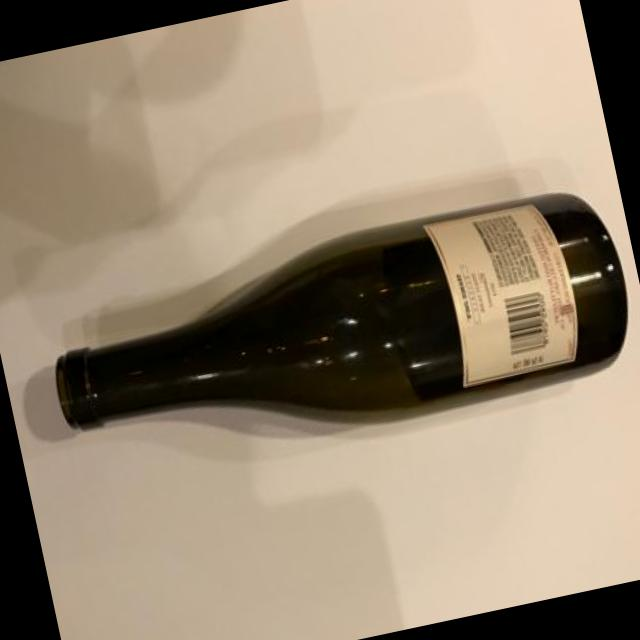chai_thuy_tinh: (54, 193, 627, 427)
